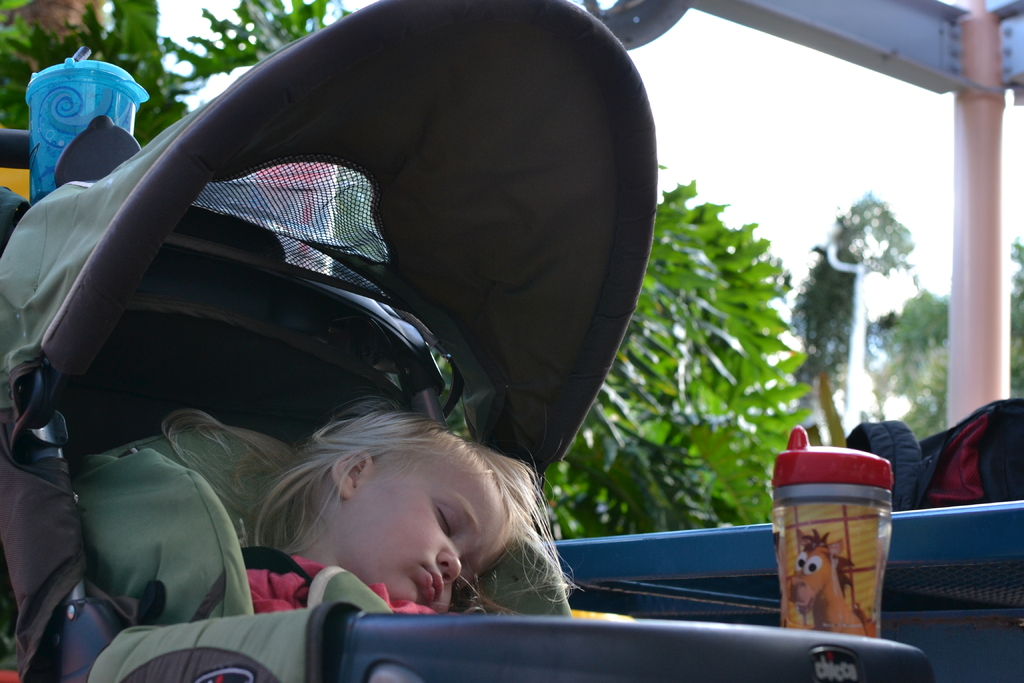Human-face: (346, 461, 505, 613)
